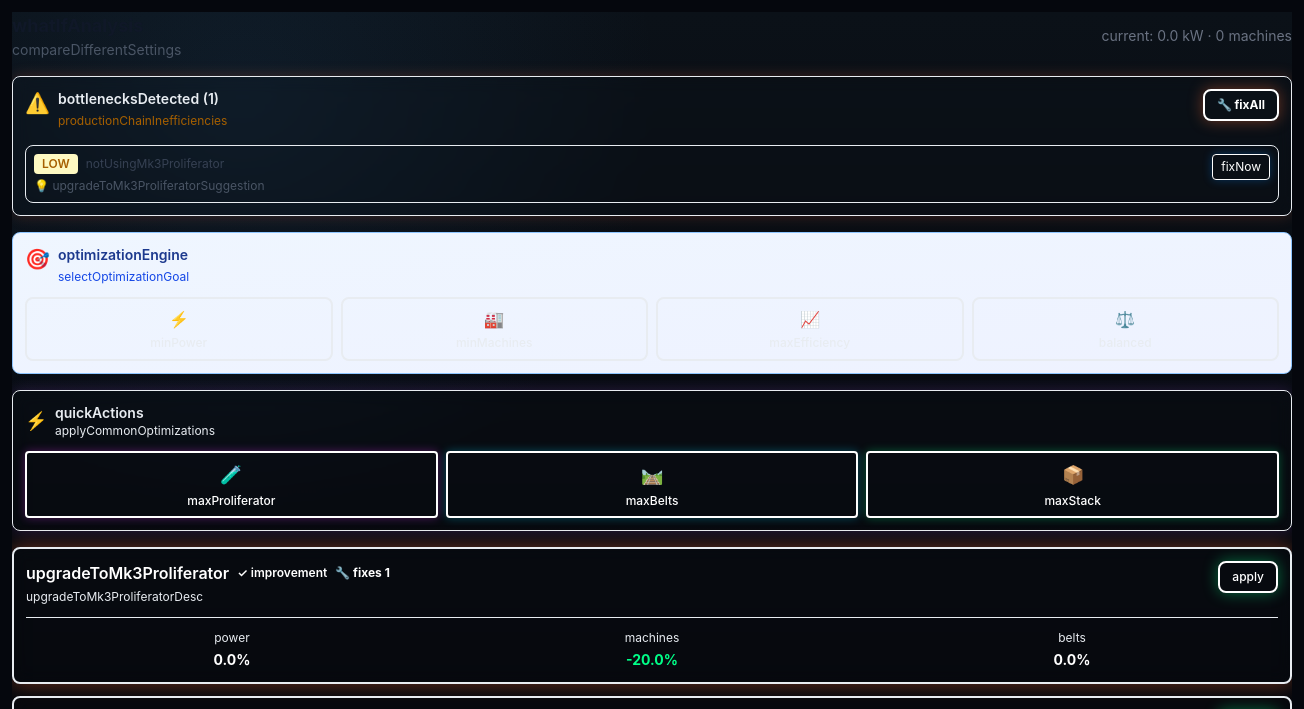
WhatIfSimulator › シナリオ適用後の通知が表示される
The width and height of the screenshot is (1304, 709).
Step 1. Click the 1st button "apply" → {"x": 1248, "y": 577}, box [1218,561,1278,593]
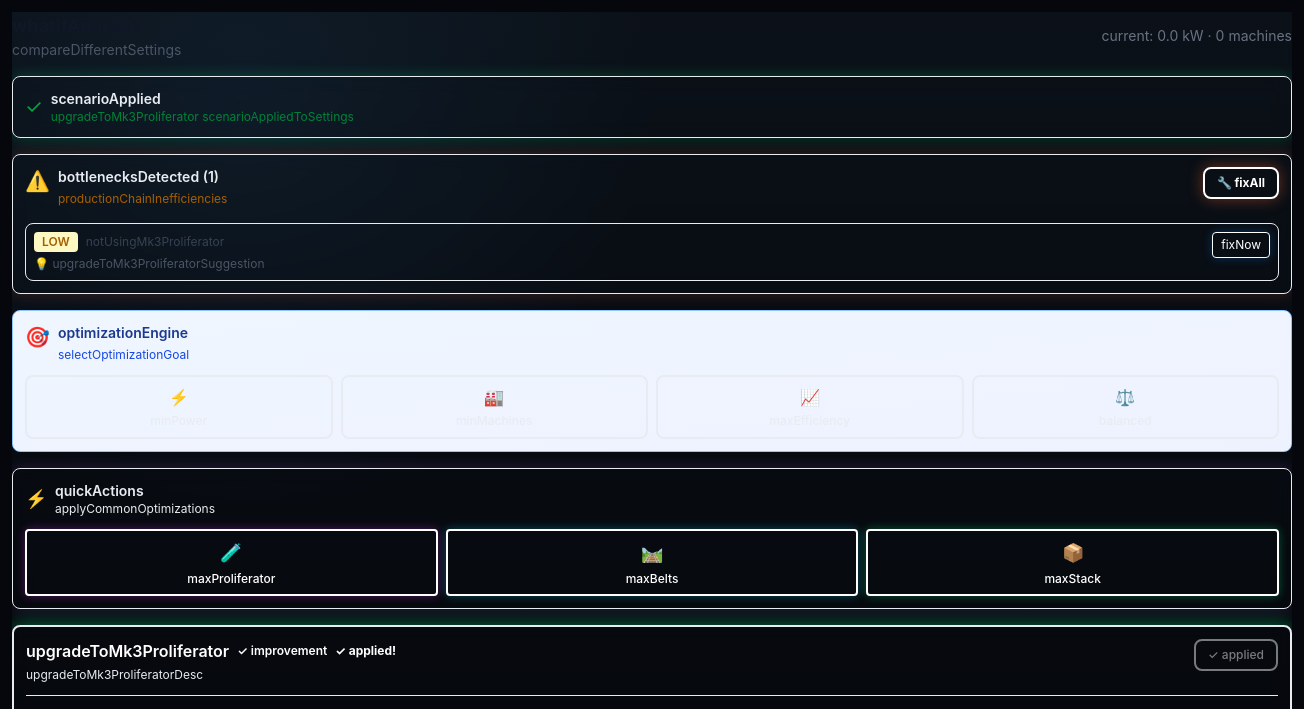
Expected: the text "scenarioApplied" is shown, [51,90,161,107]
